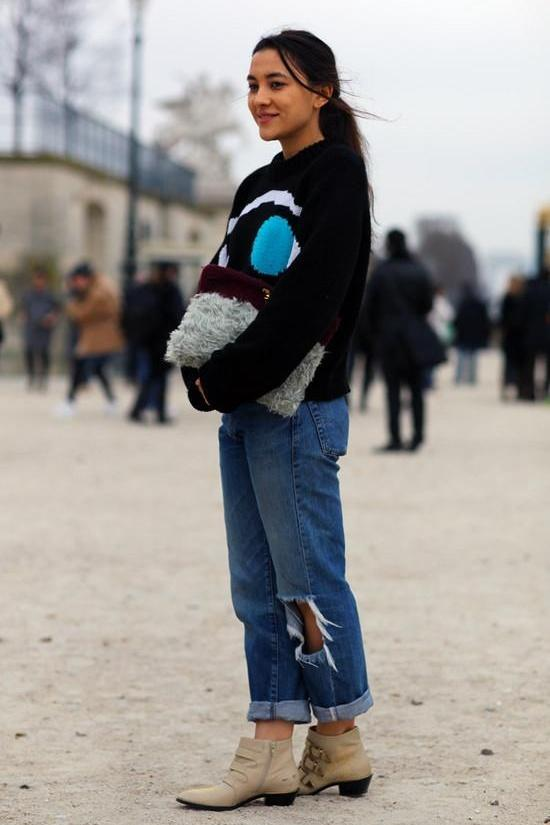pants: (219, 376, 376, 722)
sweater: (180, 135, 370, 408)
